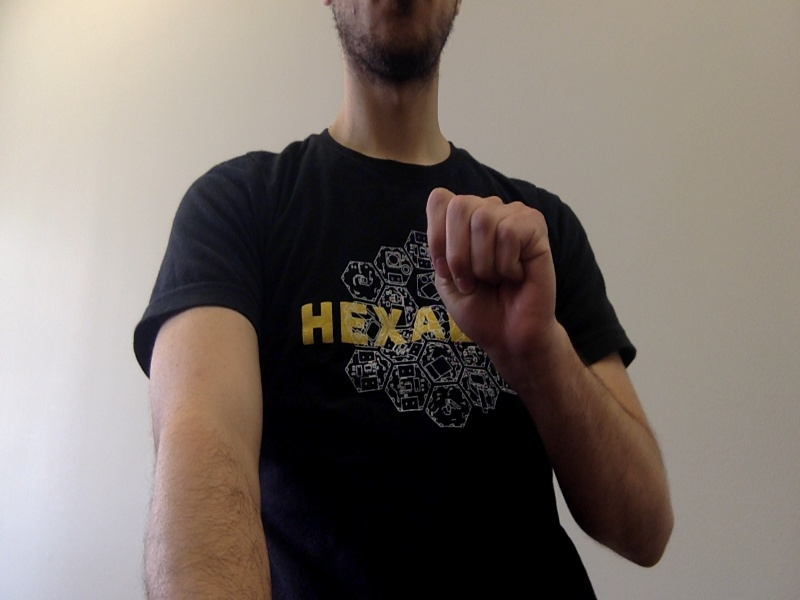0-hand: (424, 186, 556, 350)
